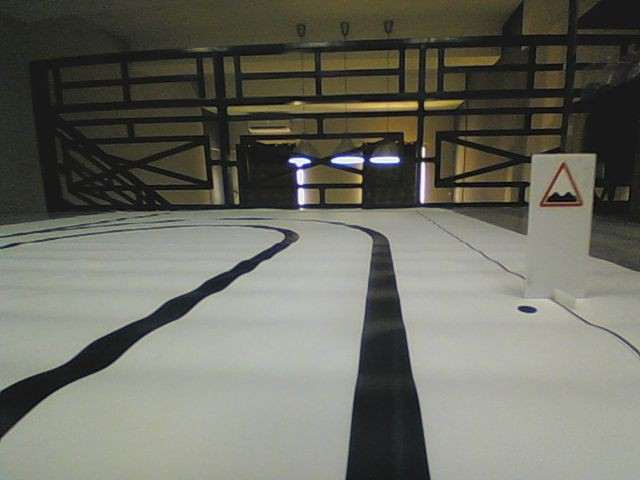Nerov: (537, 160, 585, 208)
